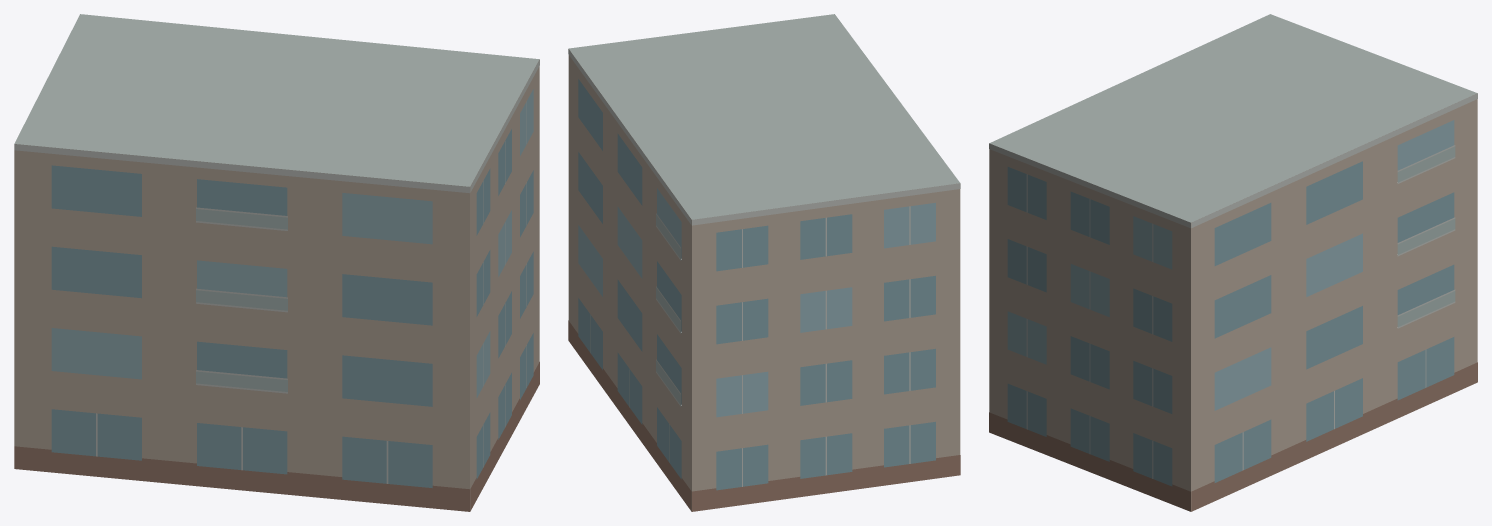
The model's file is survey-upis-33031941.glb.
The picture shows the model from 3 angles, left to right: view 1: azimuth 30°, elevation 25°; view 2: azimuth 150°, elevation 25°; view 3: azimuth 270°, elevation 25°; orthographic projection. The views are drawn at different scales.
Visible parts, largest first — view 1: survey-upis-33031941.tmp; view 2: survey-upis-33031941.tmp; view 3: survey-upis-33031941.tmp.
Boxes of the visible parts, x1,y1,x2,y2 form: survey-upis-33031941.tmp: (14, 14, 539, 511); survey-upis-33031941.tmp: (568, 14, 960, 511); survey-upis-33031941.tmp: (989, 14, 1477, 511).
Bounding box in the file's own units: 19.2 × 12.4 × 18.99.
